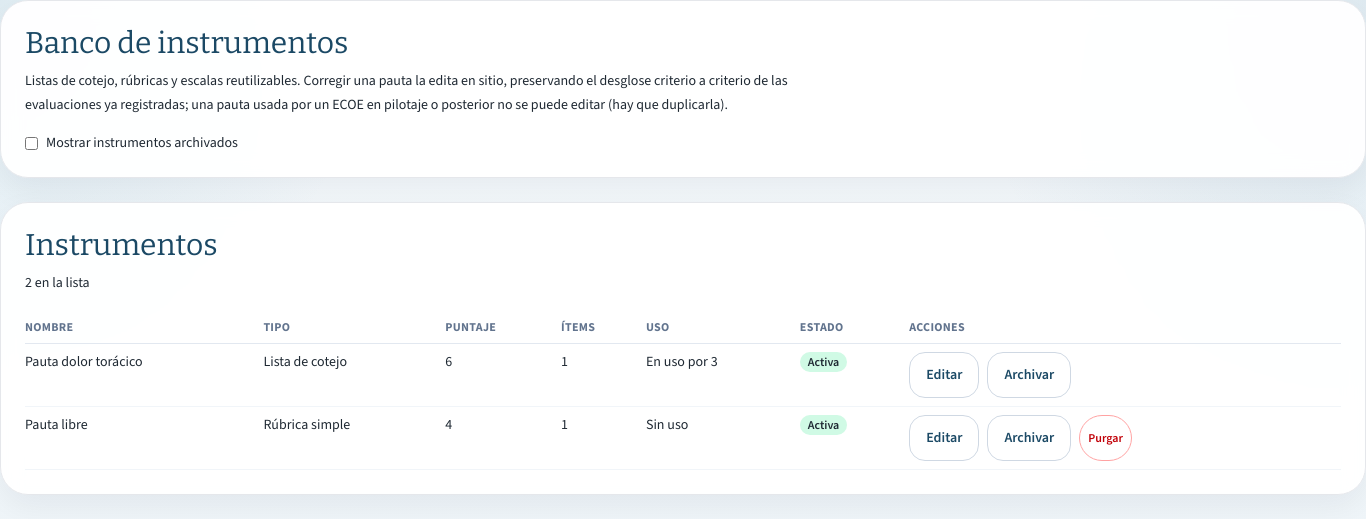
Test case: InstrumentsPage — CRUD real (OPT-7) › archivar recarga la lista sin el instrumento archivado
Expected: the text "Pauta libre" is shown, x1=25 y1=406 x2=263 y2=470
Click the button "Archivar" in the row of "Pauta libre".
click(1029, 438)  # box x1=987 y1=415 x2=1071 y2=461
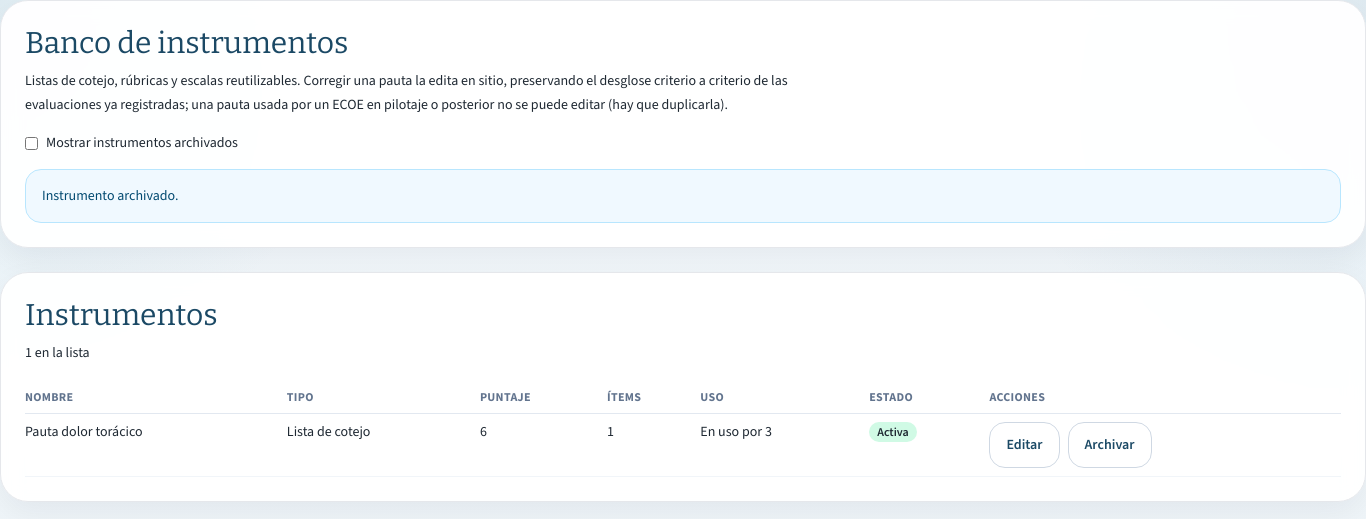
Expected: the text "Pauta libre" is gone
